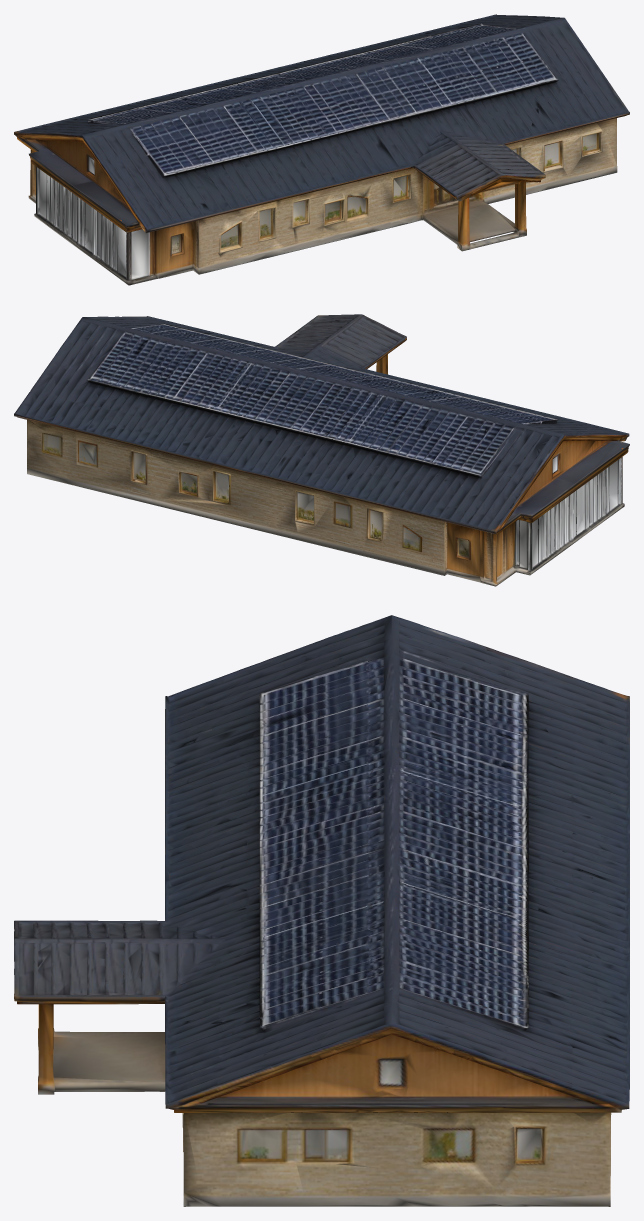
File: family-center.glb
3 renders of one model, top to bottom at view 1: azimuth 30°, elevation 25°; view 2: azimuth 150°, elevation 25°; view 3: azimuth 270°, elevation 25°, orthographic. The views are drawn at different scales.
Visible parts, largest first — view 1: node_0; view 2: node_0; view 3: node_0.
Boxes of the visible parts, x1=… form: node_0: x1=14, y1=14, x2=629, y2=285; node_0: x1=14, y1=314, x2=629, y2=586; node_0: x1=14, y1=615, x2=629, y2=1206.
Bounding box in the file's own units: 1.02 × 0.2163 × 0.6345.
1 material, 1 textured.
